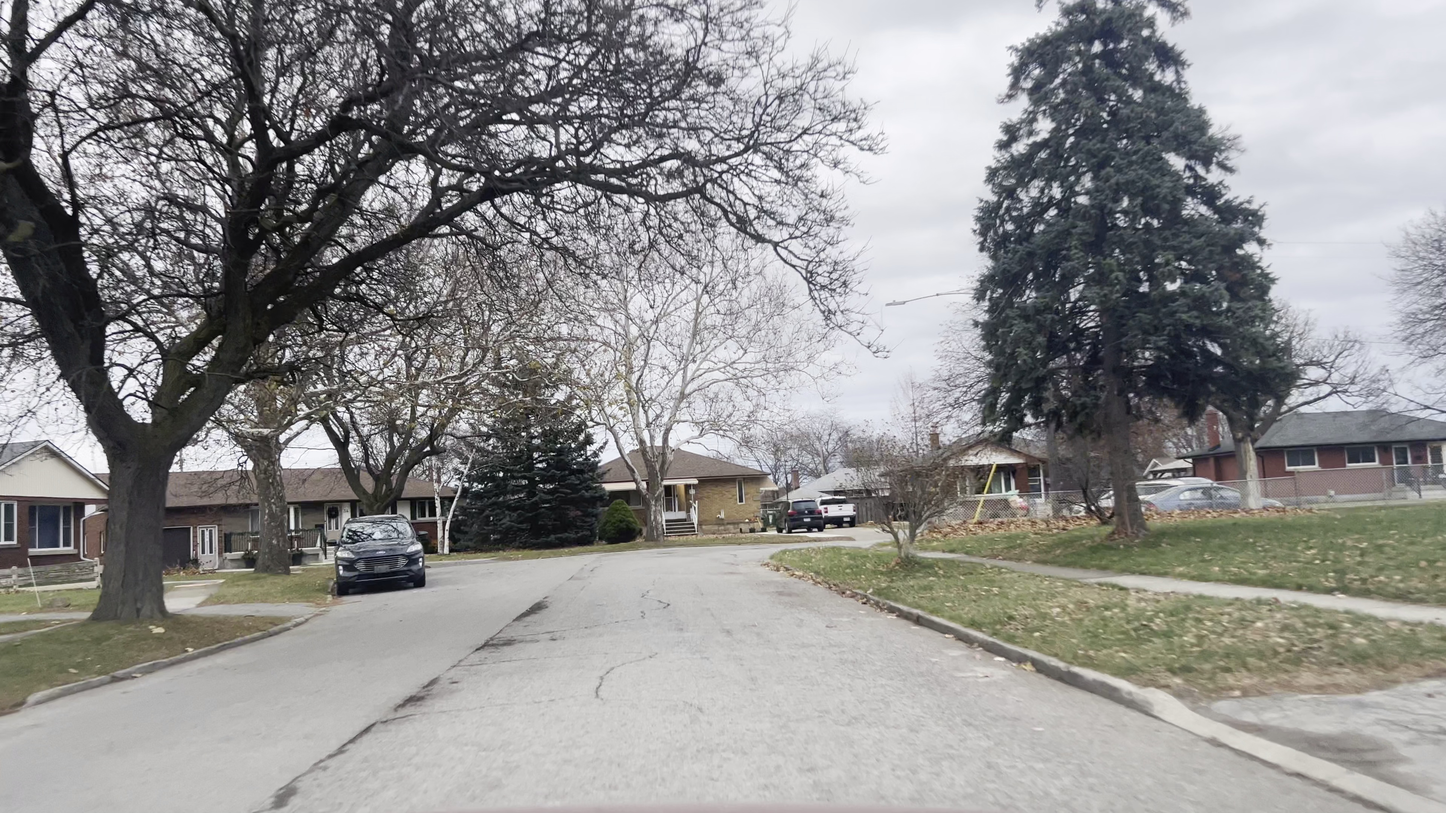cracks: (293, 726, 368, 788), (466, 630, 532, 659), (387, 681, 433, 721), (511, 598, 545, 626)
